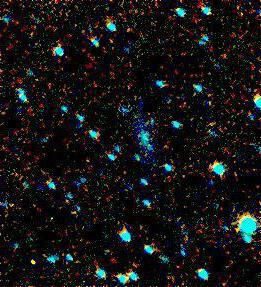star: (16, 250, 46, 280)
